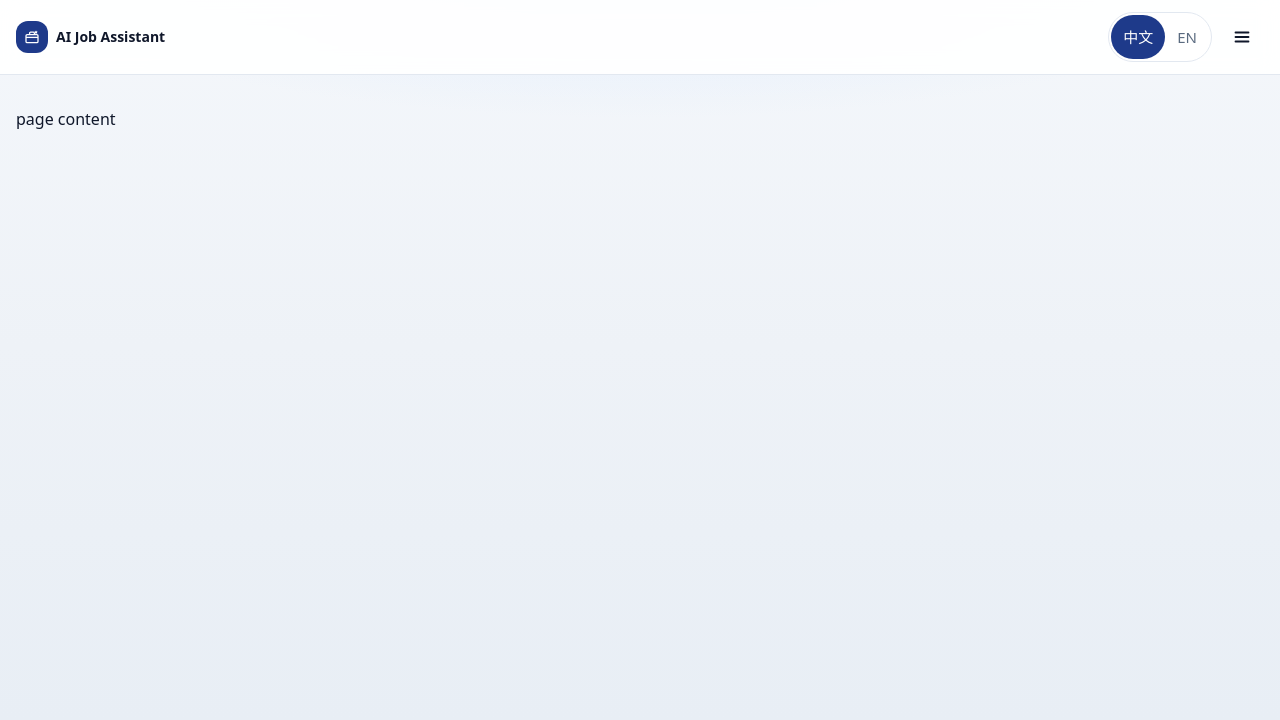
Test: AppLayout › opens a compact menu with every entry, closes on Escape, and restores focus
Expected: the link "首页" is not shown
Click the button named "打开菜单". click: (1242, 37)
box: x1=1220 y1=15 x2=1264 y2=59
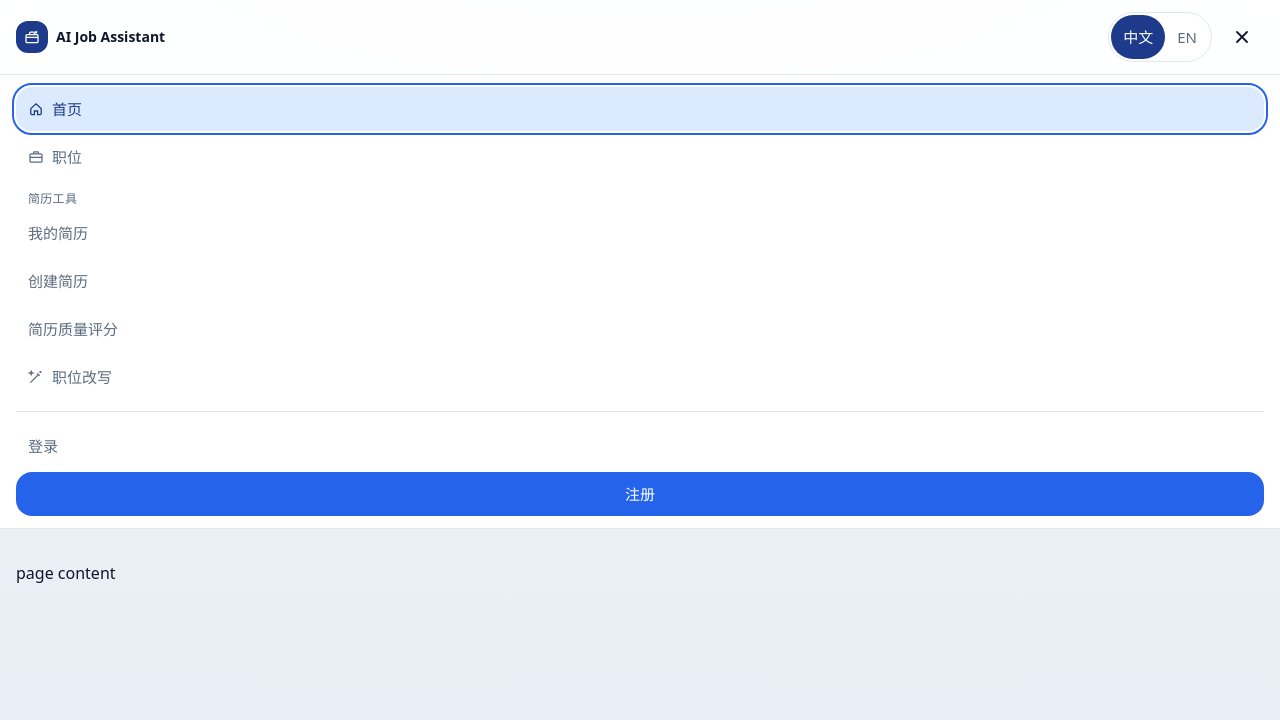
Expected: the link "我的简历" is shown, x1=28 y1=223 x2=88 y2=243
Expected: the link "简历质量评分" is shown, x1=28 y1=319 x2=118 y2=339
Expected: the link "职位改写" is shown, x1=28 y1=367 x2=112 y2=387
Press Escape
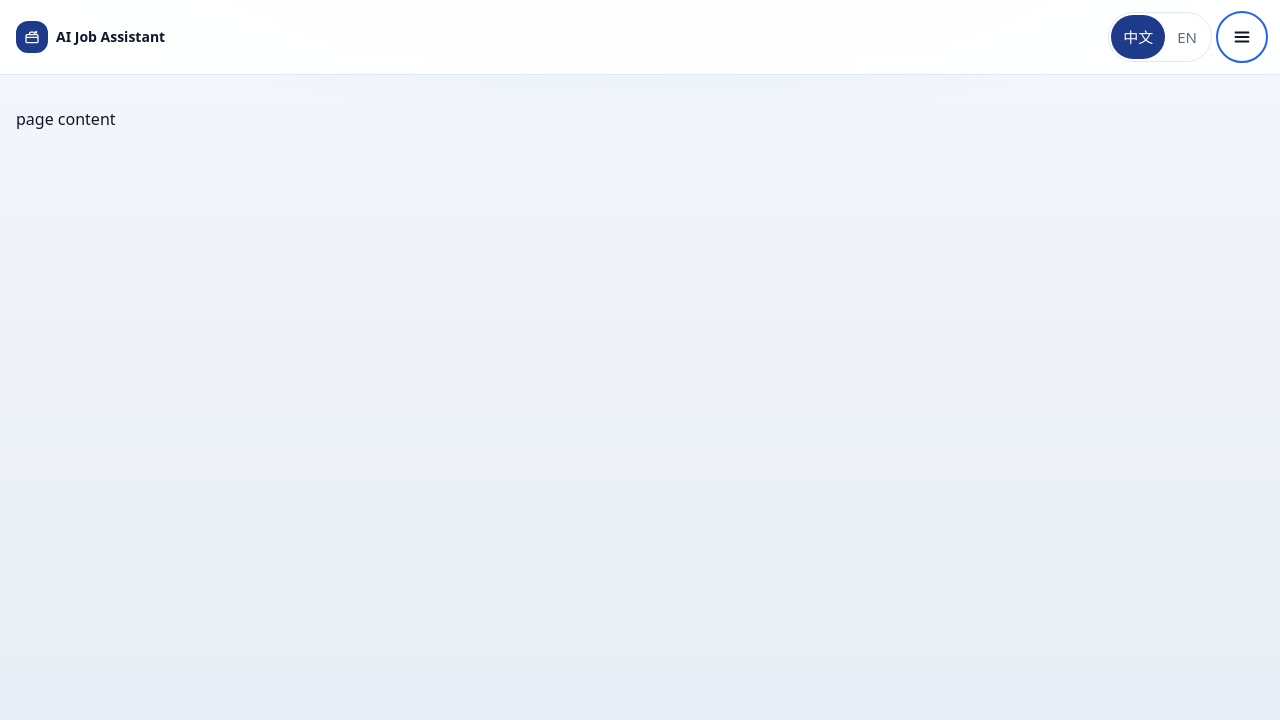
Expected: the dialog "网站菜单" is gone
